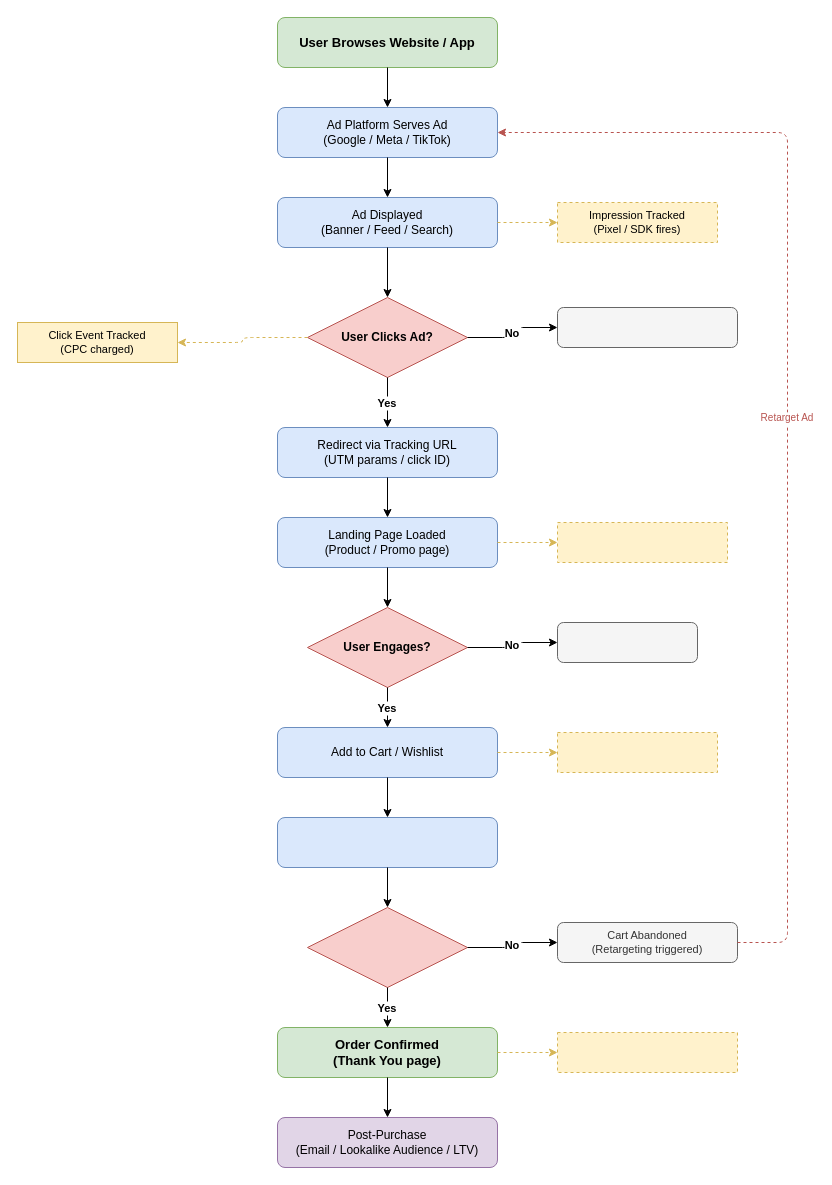
The diagram is 832 pixels wide and 1185 high, and some of its shapes have lost their labels. Here are the shapes that lost their labels. From the top down, the centre of each, then its label:
(x=647, y=327): User Ignores / Scrolls Away
(x=642, y=542): Page View Pixel Fires (Attribution recorded)
(x=627, y=642): Bounce (Leaves page)
(x=637, y=752): Add-to-Cart Event (Conversion pixel)
(x=387, y=842): Proceed to Checkout
(x=387, y=947): Purchase Completed?
(x=647, y=1052): Purchase Event Fires (Revenue / ROAS tracked)
